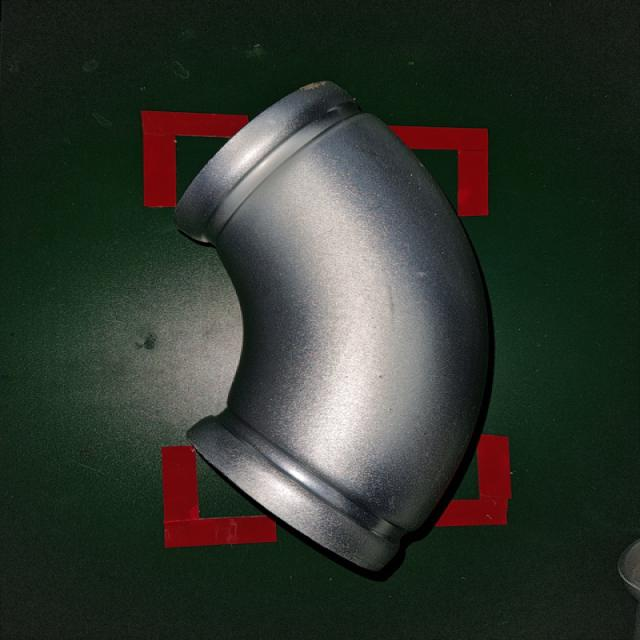Normal: (165, 72, 504, 583)
